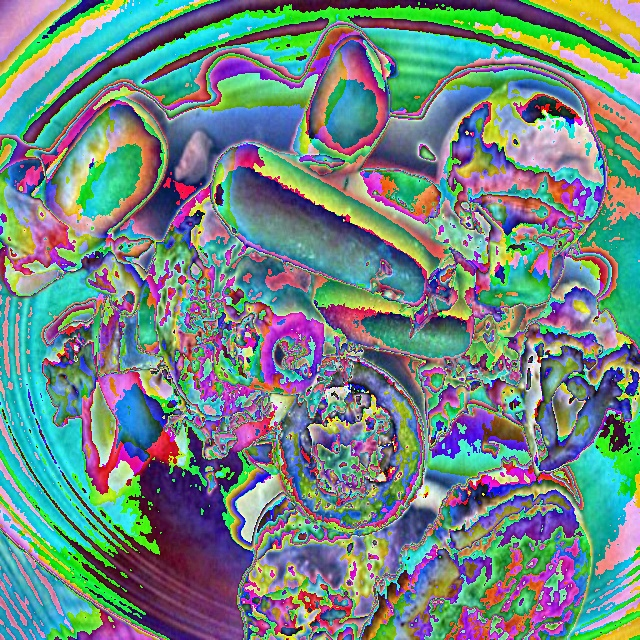background: (0, 35, 640, 639)
